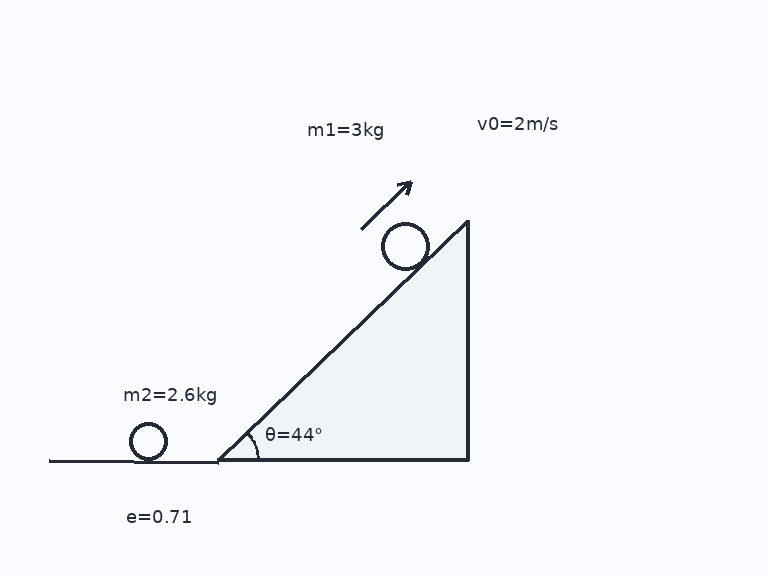ball: (379, 220, 431, 272), (127, 420, 169, 462)
ramp: (216, 218, 469, 462)
